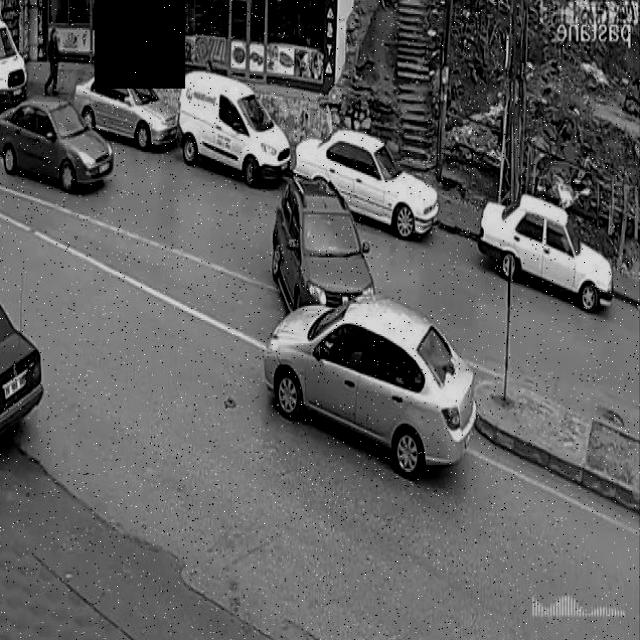accident: (262, 168, 482, 481)
